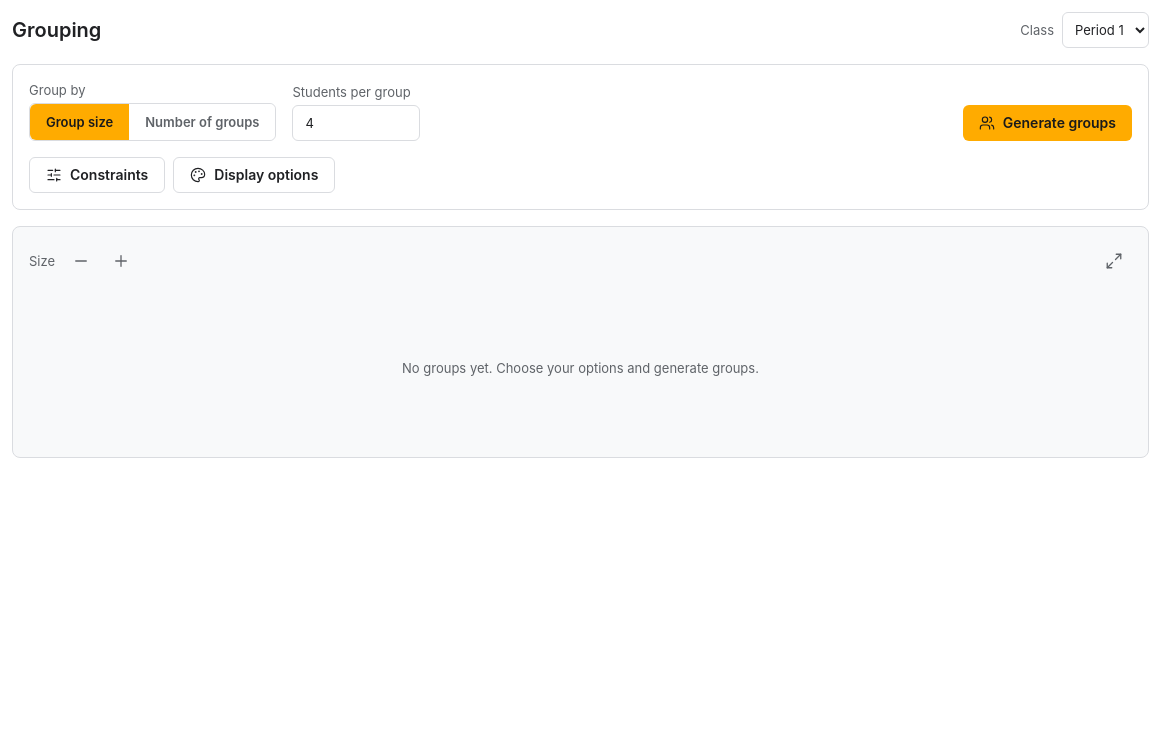
it: GroupingPage › generates locally and displays groups immediately, then auto-saves
What coordinates should you click on to do the following:
click the button "Generate groups"
I would click on:
 (1047, 123)
Its box is [963,105,1132,141].
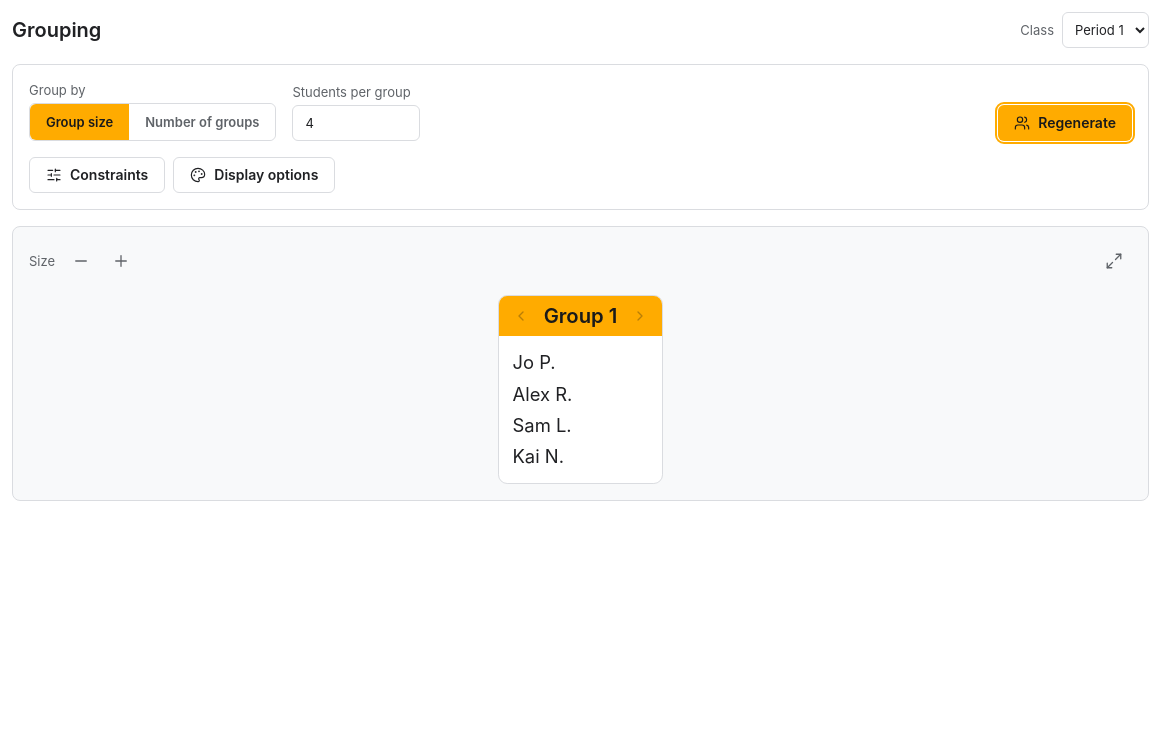
expect the text "Group 1" is shown: met, box [544,306,617,326]
